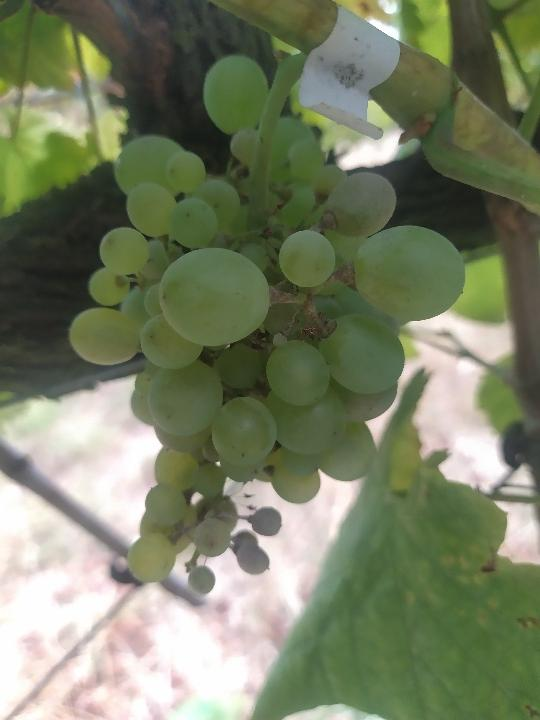grape: (65, 51, 468, 597)
